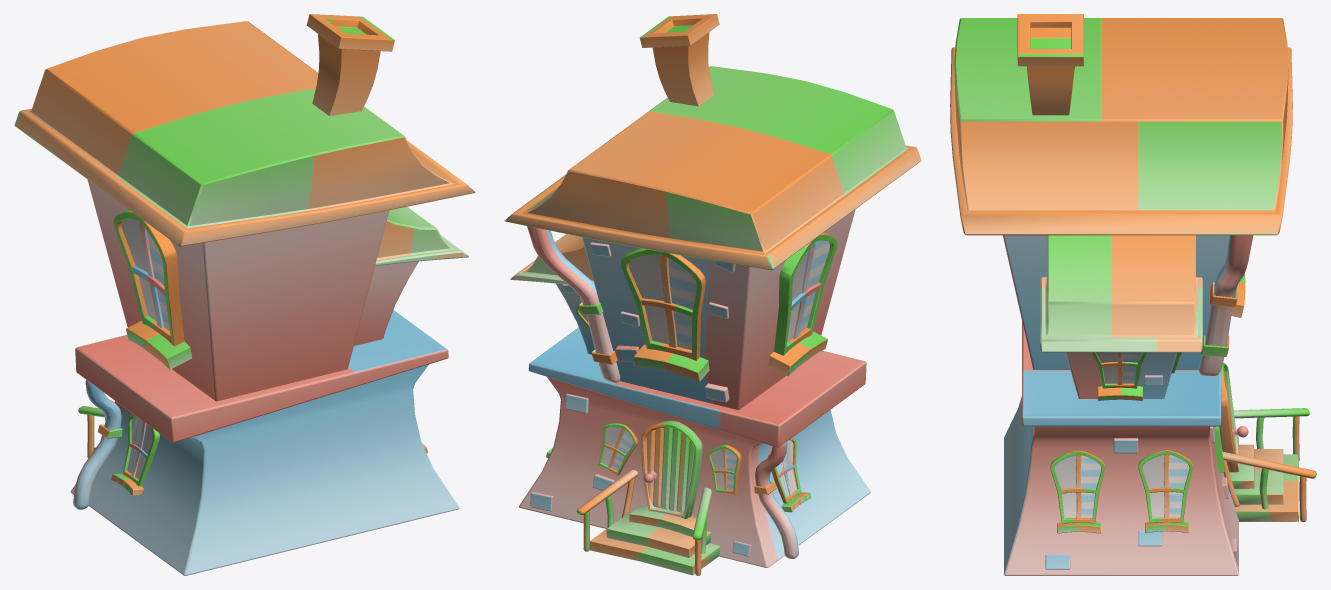
Rendered from SM_HouseMergedTest.fbx.
3 views of the same model, side by side, from view 1: azimuth 30°, elevation 25°; view 2: azimuth 150°, elevation 25°; view 3: azimuth 270°, elevation 25° (orthographic). The views are drawn at different scales.
Parts seen in each view (by area): view 1: HouseA_roofs; view 2: HouseA_roofs; view 3: HouseA_roofs.
Boxes of the visible parts, x1,y1,x2,y2 form: HouseA_roofs: (14, 14, 475, 575); HouseA_roofs: (504, 14, 921, 575); HouseA_roofs: (950, 14, 1316, 575).
Size of the model in its own units: 770 by 1090 by 715.
